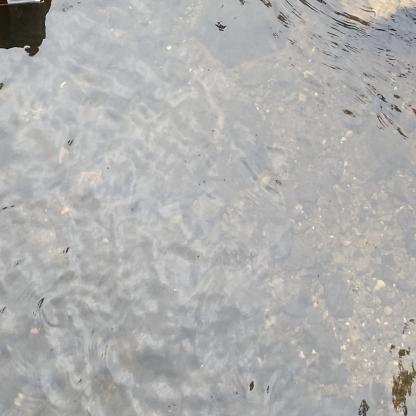trash: (341, 0, 416, 32), (0, 0, 48, 10)
